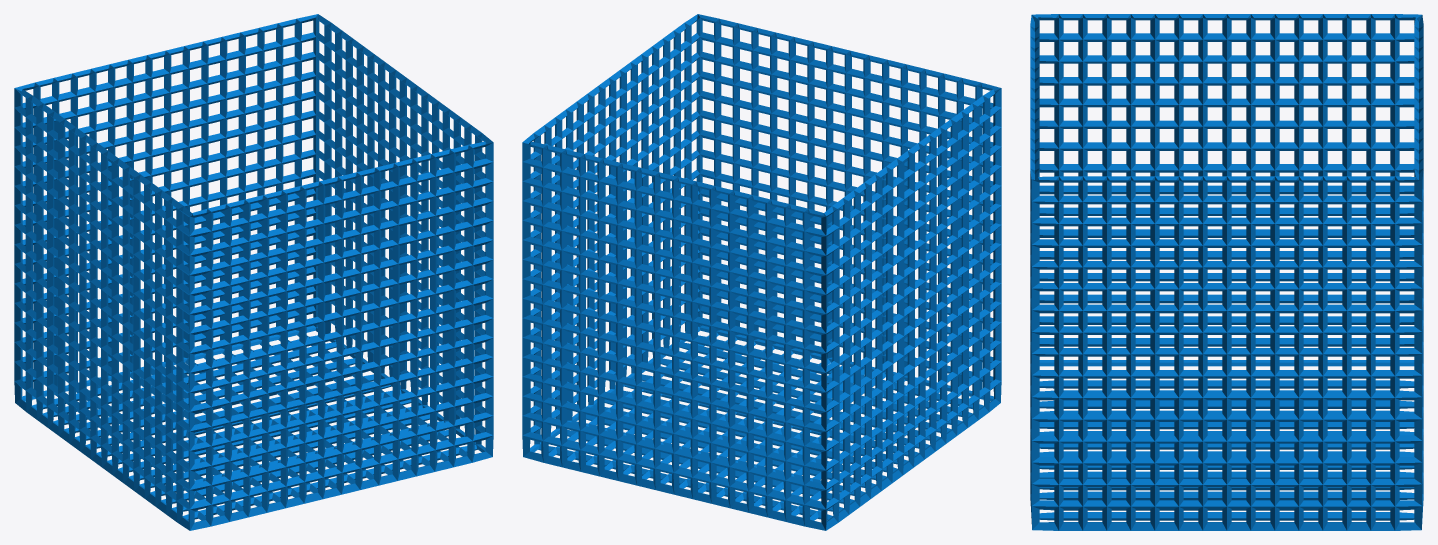
Rendered from Crate.fbx.
3 renders of one model, left to right at view 1: azimuth 30°, elevation 25°; view 2: azimuth 150°, elevation 25°; view 3: azimuth 270°, elevation 25°, orthographic. The views are drawn at different scales.
Visible parts, largest first — view 1: Cube; view 2: Cube; view 3: Cube.
Part boxes in pixels (x1,y1,x2,y2): Cube: [14, 14, 493, 530]; Cube: [522, 14, 1001, 530]; Cube: [1030, 14, 1423, 530].
Bounding box in the file's own units: 5.81 × 5.74 × 5.81.
